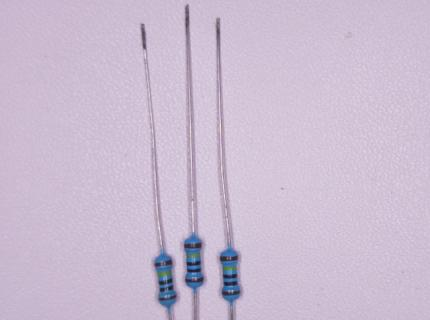Black band: (159, 285, 174, 292), (159, 278, 172, 285), (223, 274, 238, 279), (187, 261, 201, 266), (187, 268, 201, 273), (224, 281, 238, 286)
Brown band: (158, 294, 177, 301), (155, 259, 172, 266), (185, 277, 204, 283), (220, 255, 239, 261), (222, 290, 241, 295), (184, 243, 202, 248)
Yellow band: (158, 270, 172, 276), (186, 253, 201, 258), (223, 266, 237, 270)
